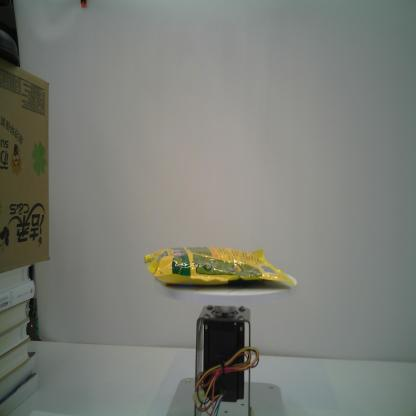Seasoner: (143, 246, 296, 288)
